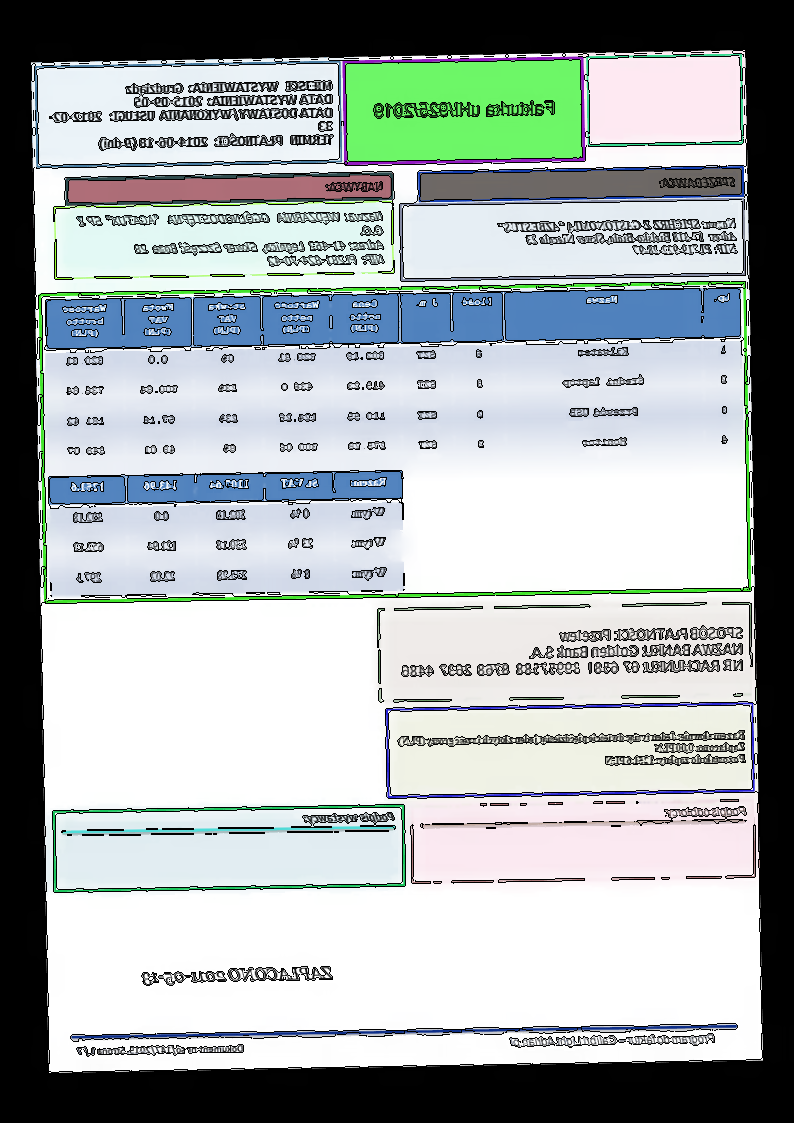Table: (45, 285, 745, 474), (47, 469, 406, 600)
TextBox: (45, 77, 336, 153), (74, 207, 387, 273), (399, 623, 746, 682), (396, 727, 748, 771), (495, 215, 739, 260), (141, 962, 335, 989), (371, 97, 558, 122), (508, 1029, 717, 1051), (76, 1041, 245, 1059), (302, 808, 397, 828), (663, 802, 749, 821), (656, 173, 739, 191), (325, 178, 386, 196)
